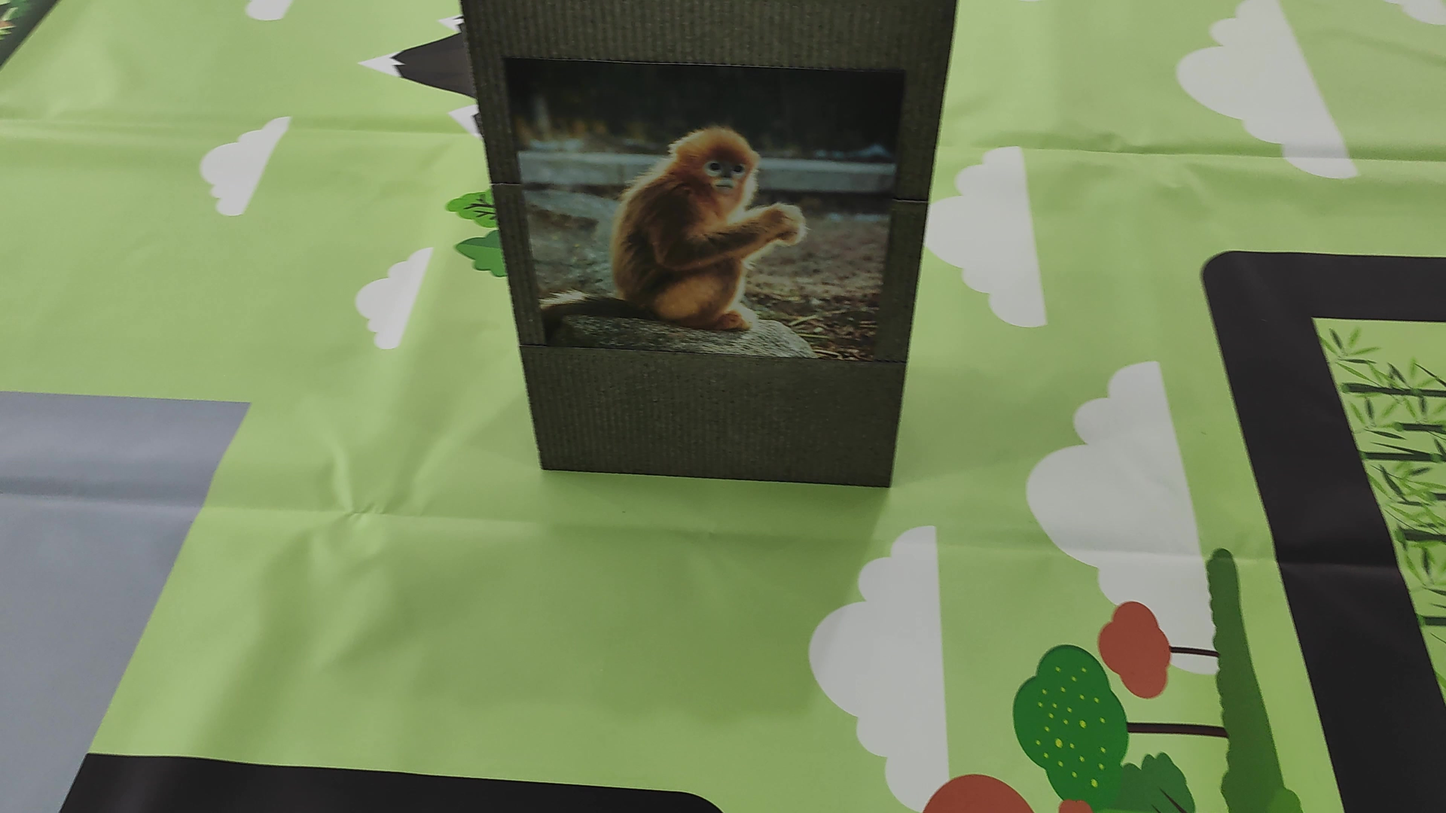monkey: (554, 90, 833, 352)
